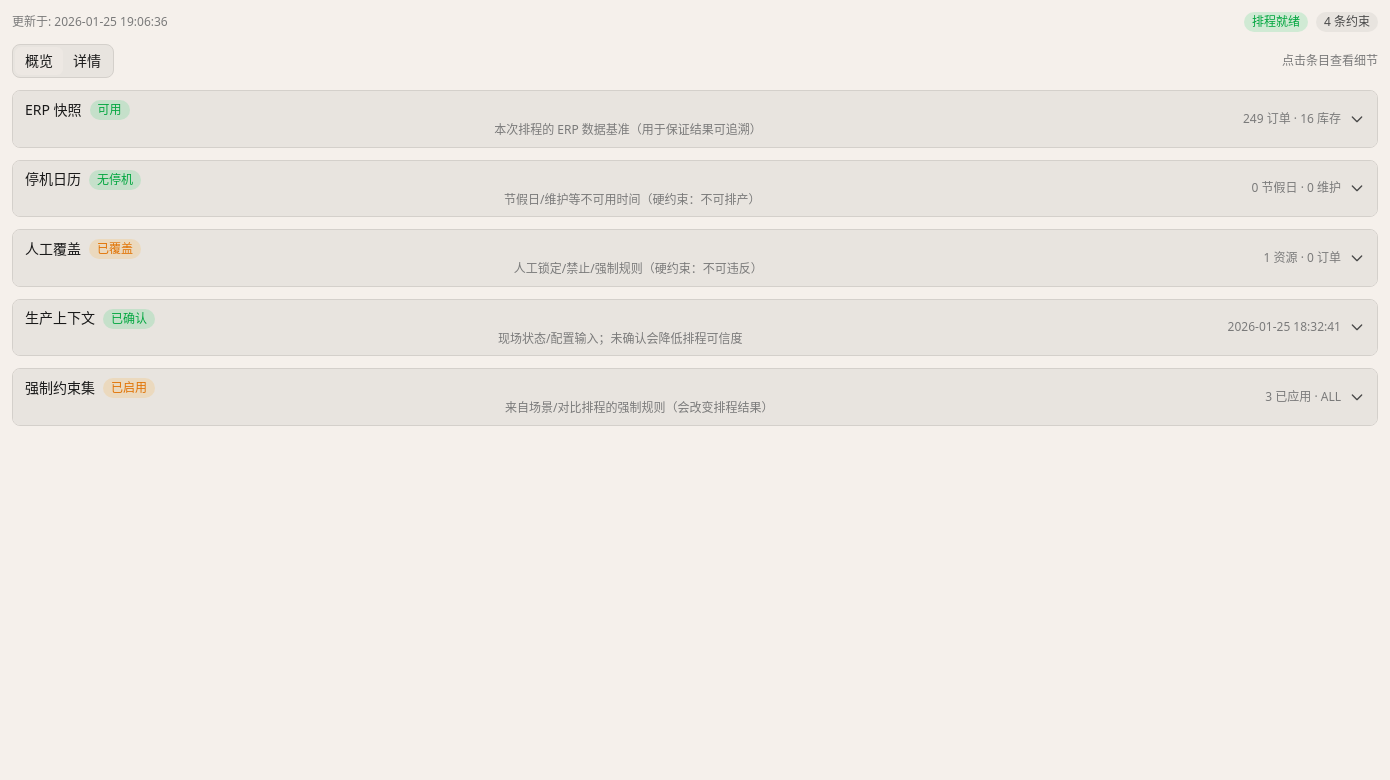
ConstraintsPanel › hides raw applied constraints JSON until requested
expect the text "强制约束集" is shown: met, box [25,378,95,398]
expect the text "source_schedule_id" is not shown: met
Click the button "强制约束集 已启用 来自场景/对比排程的强制规则（会改变排程结果） 3 已应用 · ALL". click: {"x": 695, "y": 397}
box: [13,369,1377,424]
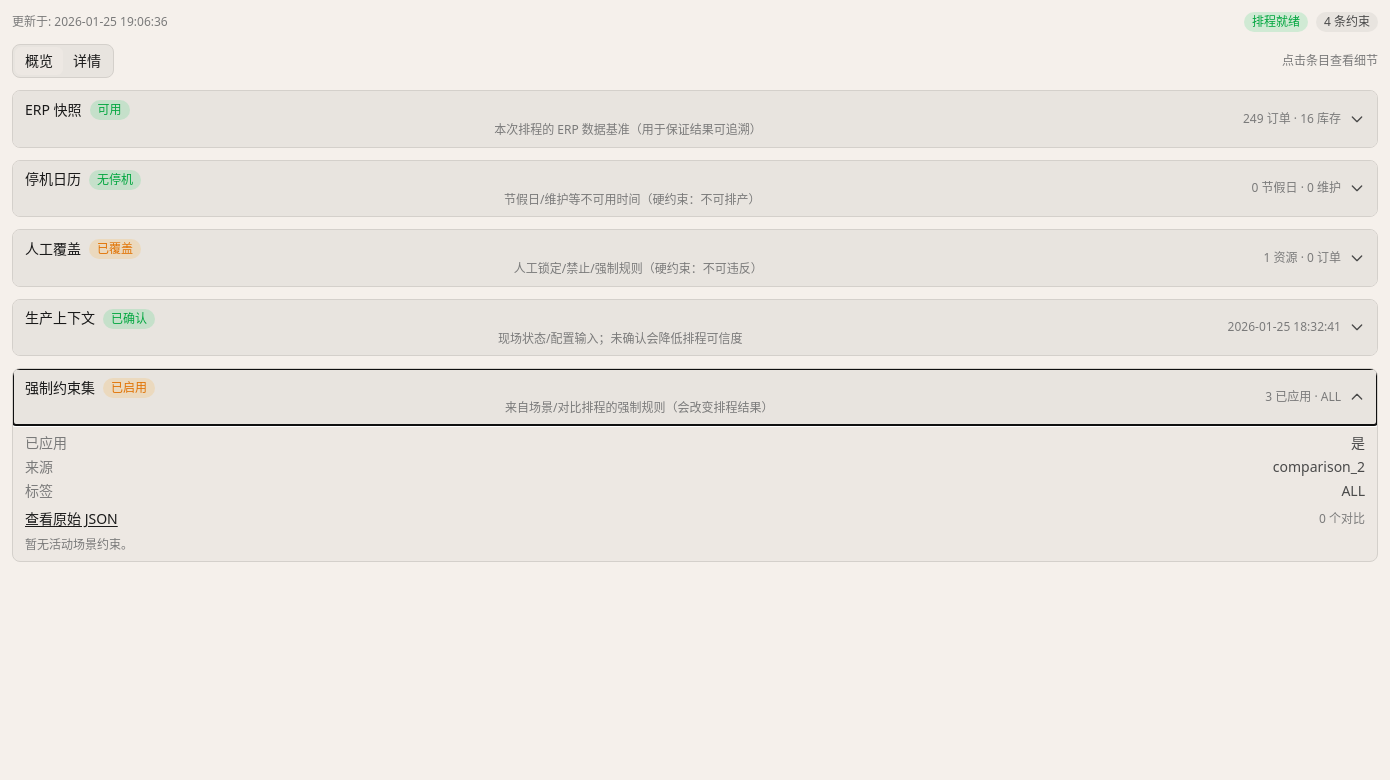
Click the button "查看原始 JSON". click: {"x": 71, "y": 518}
box: [25,508,118,528]
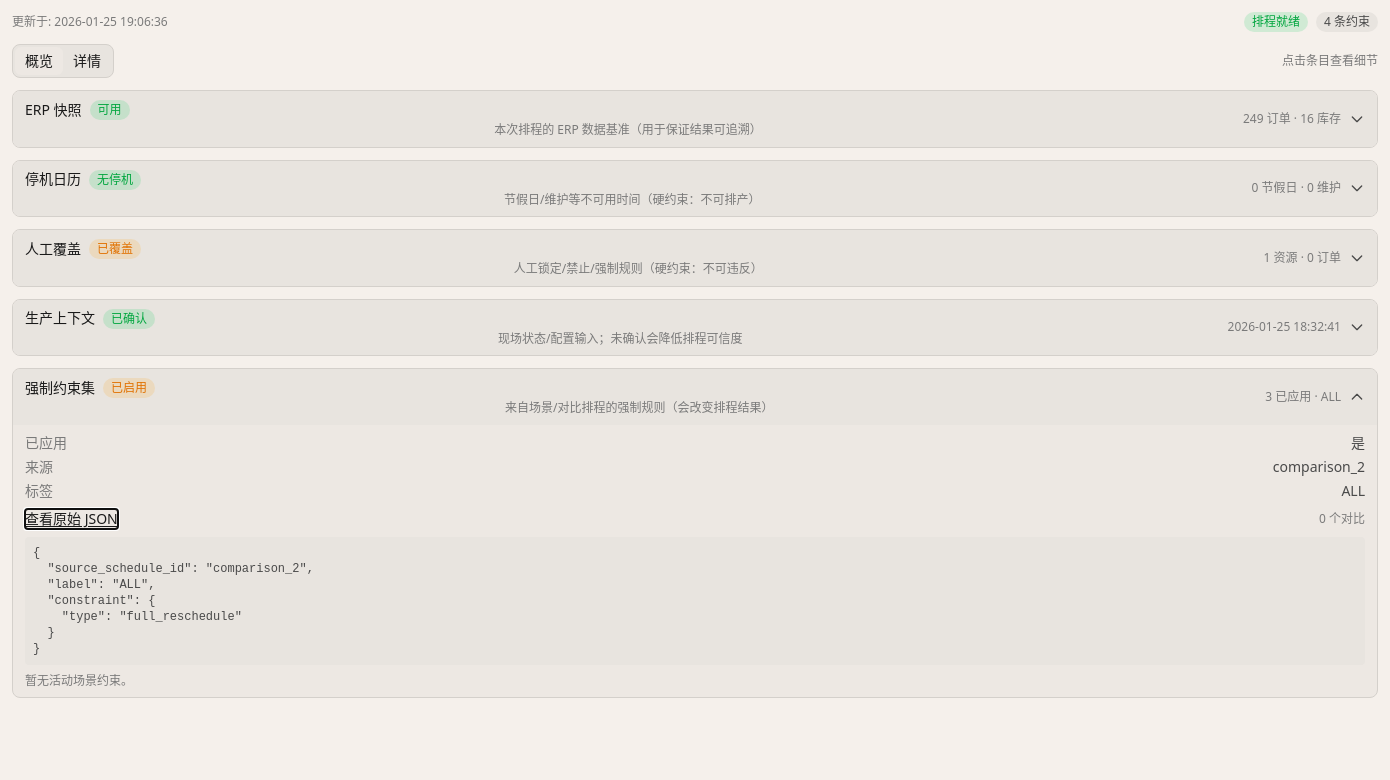
expect the text "source_schedule_id" is shown: met, box [33,546,314,656]
